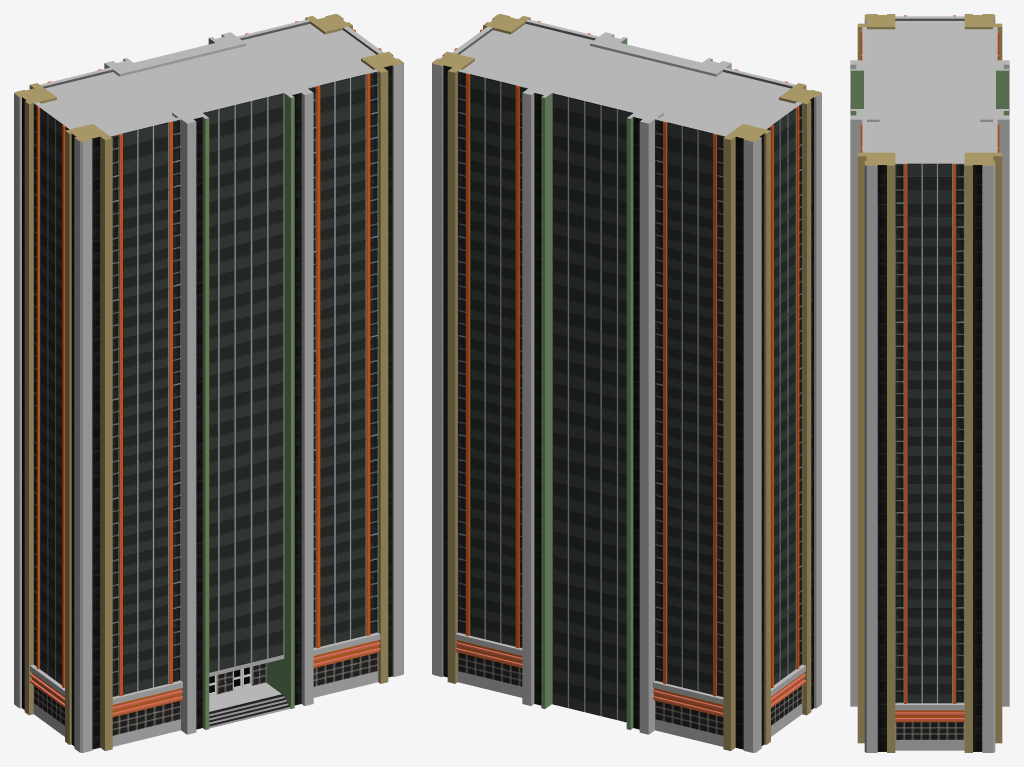
3 views of the same model, side by side, from view 1: azimuth 30°, elevation 25°; view 2: azimuth 150°, elevation 25°; view 3: azimuth 270°, elevation 25° (orthographic). The views are drawn at different scales.
Visible parts, largest first — view 1: Building; view 2: Building; view 3: Building.
Boxes of the visible parts, bbox=[...] form: Building: bbox=[14, 14, 403, 752]; Building: bbox=[432, 14, 821, 752]; Building: bbox=[850, 14, 1009, 752].
Size of what is drawn, in the model's own units: 41.04 by 74 by 18.19.
